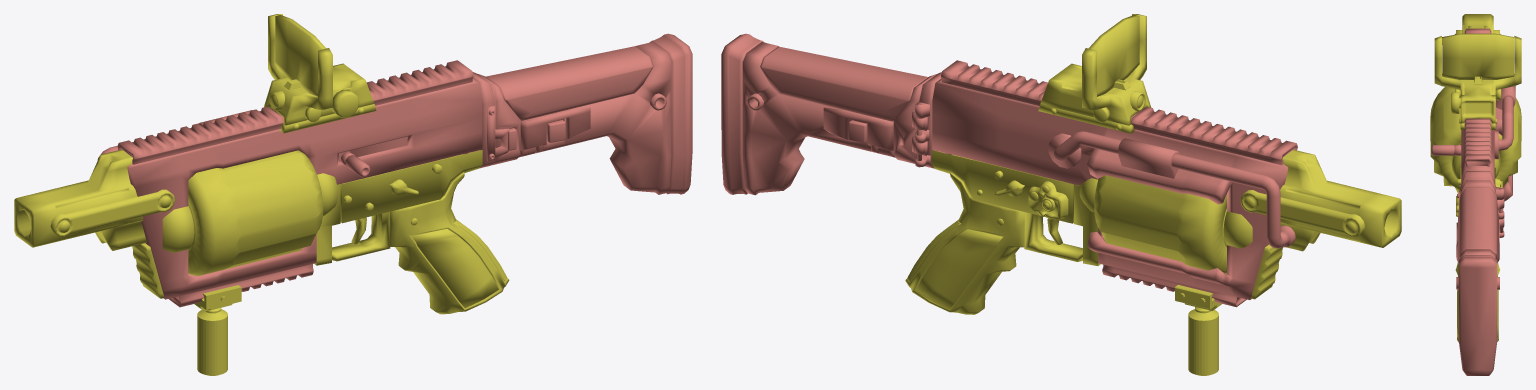
File: Gun2Pose.fbx
3 renders of one model, left to right at view 1: azimuth 30°, elevation 25°; view 2: azimuth 150°, elevation 25°; view 3: azimuth 270°, elevation 25°, orthographic. The views are drawn at different scales.
Visible parts, largest first — view 1: Plane.005, Plane.004; view 2: Plane.005, Plane.004; view 3: Plane.005, Plane.004.
Part boxes in pixels (x1,y1,x2,y2): Plane.005: (97,33,692,307); Plane.004: (14,14,509,375); Plane.005: (721,33,1297,307); Plane.004: (905,14,1401,375); Plane.005: (1431,28,1515,375); Plane.004: (1430,14,1521,342).
Bounding box in the file's own units: 27.52 × 12.84 × 4.23.
